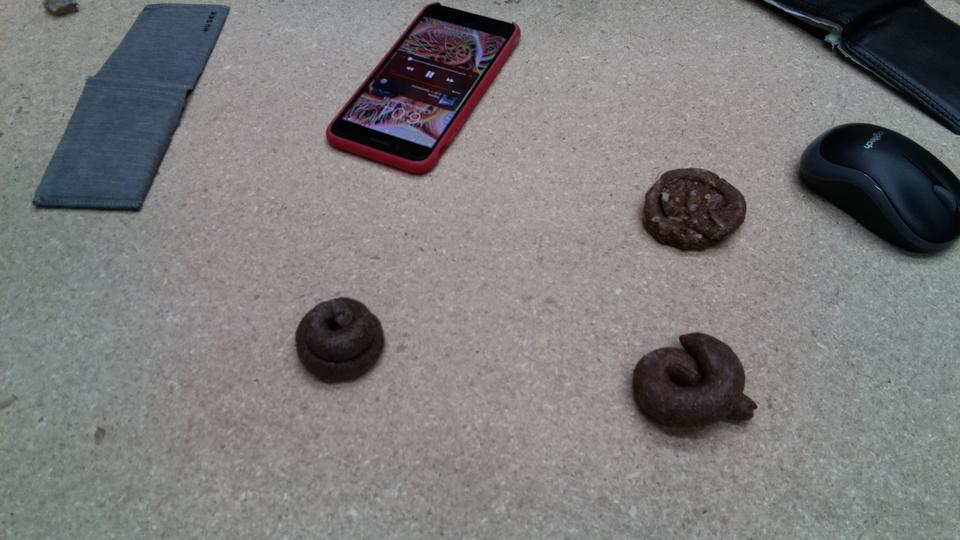poop: (631, 330, 759, 438), (641, 164, 749, 254), (292, 293, 389, 387)
